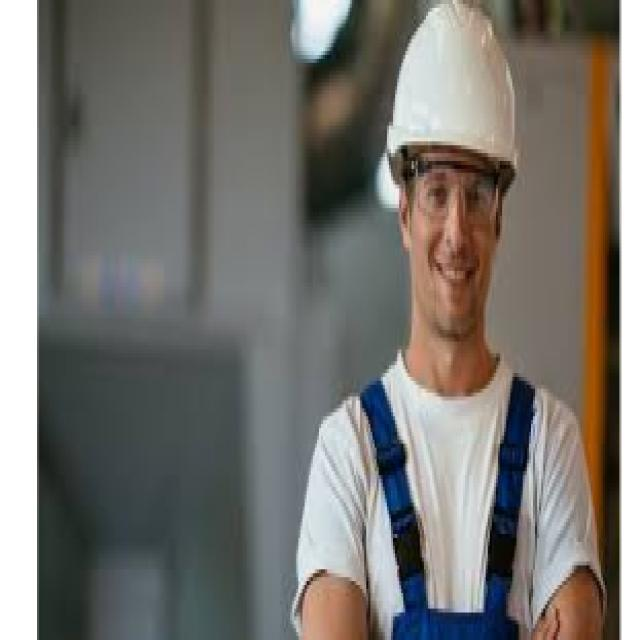glasses: (405, 152, 505, 226)
